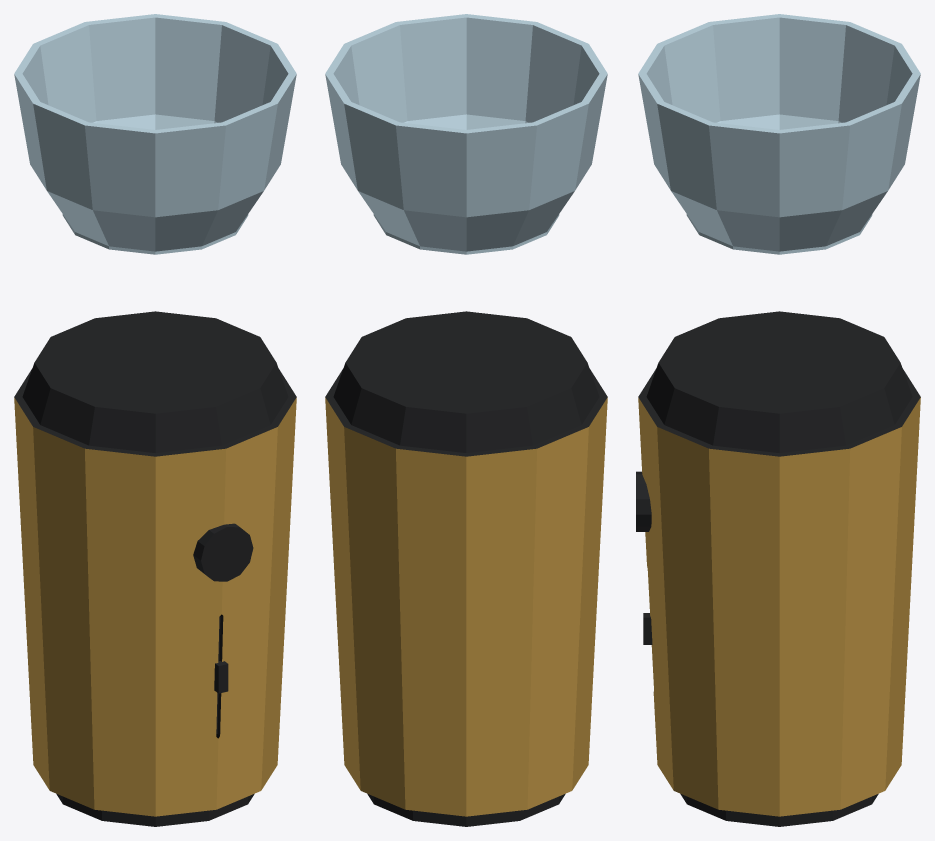
Rendered from coffeegrinders_01_D.gltf.
3 renders of one model, left to right at view 1: azimuth 30°, elevation 25°; view 2: azimuth 150°, elevation 25°; view 3: azimuth 270°, elevation 25°, orthographic.
Visible parts, largest first — view 1: coffeegrinders_01_D, Glassforcoffeegrinders_01_D, Switchforcoffeegrinders_02_D; view 2: coffeegrinders_01_D, Glassforcoffeegrinders_01_D; view 3: coffeegrinders_01_D, Glassforcoffeegrinders_01_D, Switchforcoffeegrinders_02_D.
Part boxes in pixels (x1,y1,x2,y2): coffeegrinders_01_D: [14, 311, 296, 826]; Glassforcoffeegrinders_01_D: [14, 14, 296, 254]; Switchforcoffeegrinders_02_D: [193, 523, 253, 581]; coffeegrinders_01_D: [325, 311, 607, 826]; Glassforcoffeegrinders_01_D: [325, 14, 607, 254]; coffeegrinders_01_D: [638, 311, 920, 826]; Glassforcoffeegrinders_01_D: [638, 14, 920, 254]; Switchforcoffeegrinders_02_D: [636, 471, 651, 531].
Size of the model in its own units: 0.1444 by 0.3991 by 0.1455.
1 material, 1 textured.
